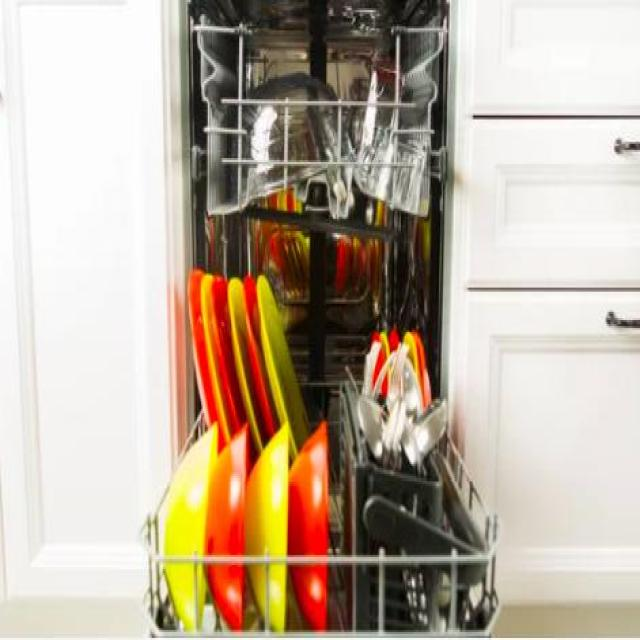dishwasher: (137, 0, 504, 638)
